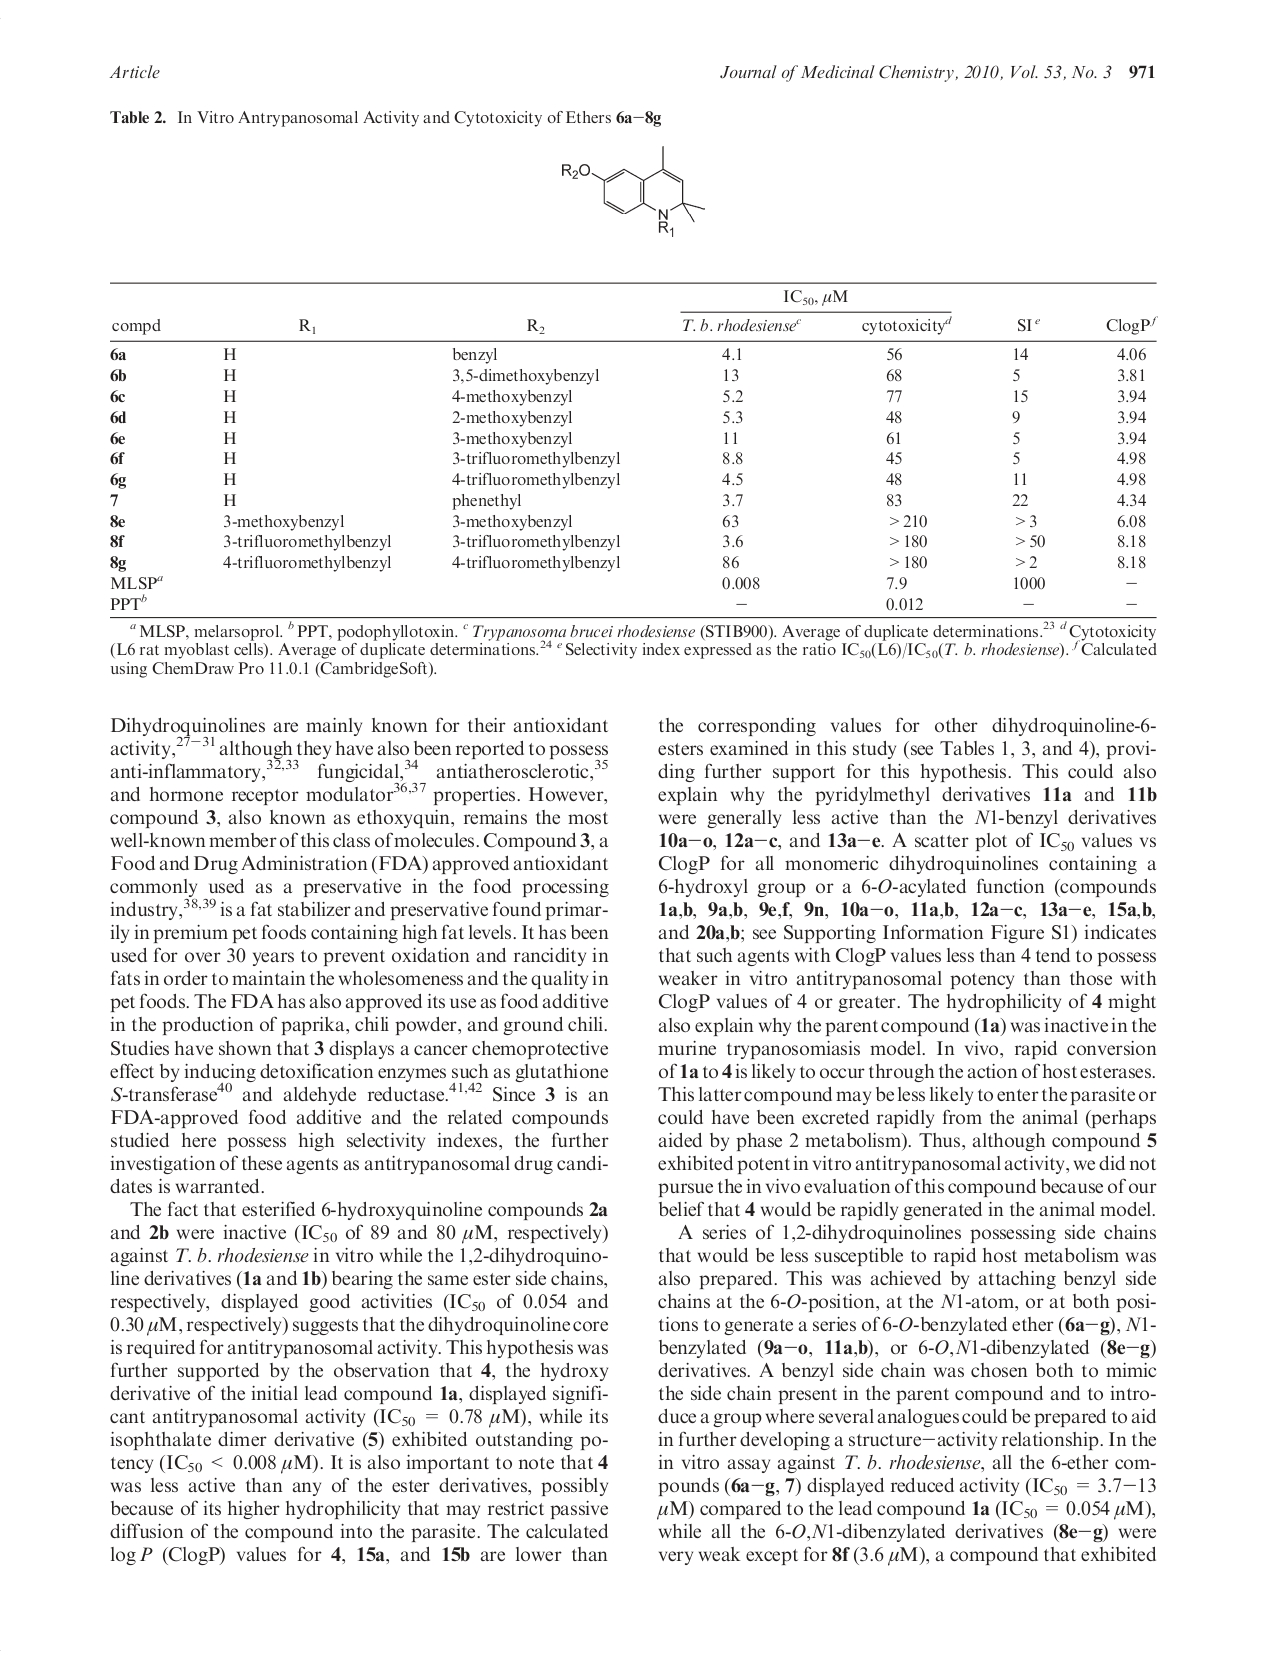exist_molecular: (559, 145, 703, 237)
